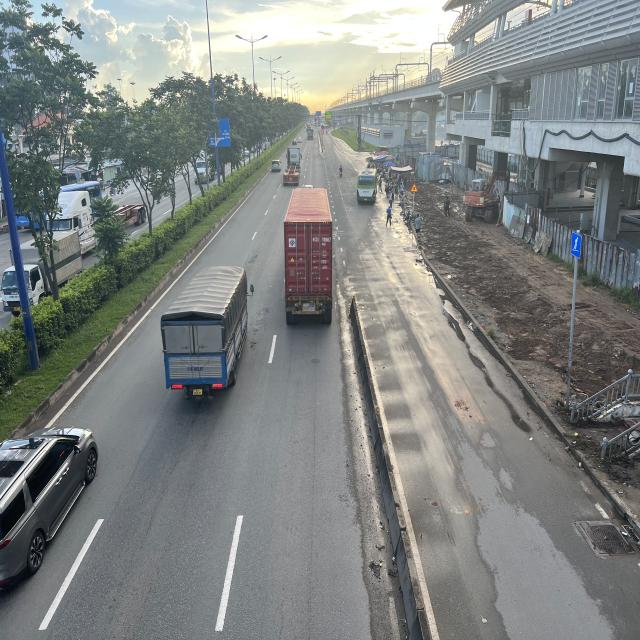car: (0, 424, 96, 594)
coach: (355, 171, 377, 203)
container: (283, 185, 334, 324), (286, 145, 302, 184)
truck: (161, 266, 255, 396)
